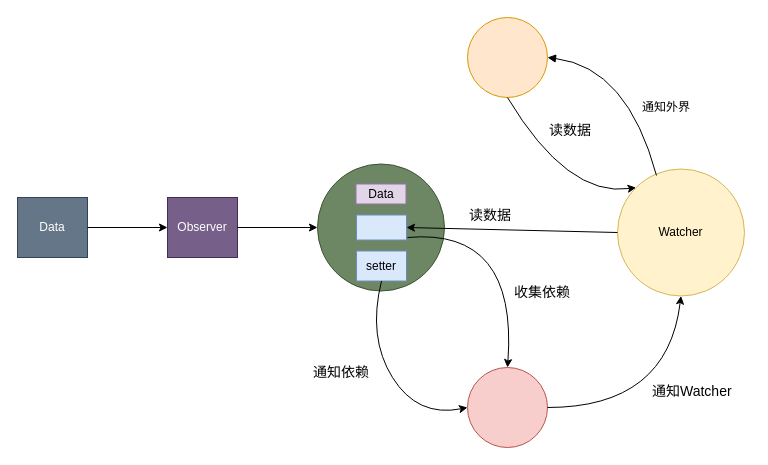
Some shapes in this 768 by 465 pixel diagram are drawn without their labels. The shapes that lost their labels are listed below. From the top down, each one's centre as x and y in pixels, then its label:
At pixel 507 57: "外界".
At pixel 381 227: "getter".
At pixel 507 407: "Depent".
